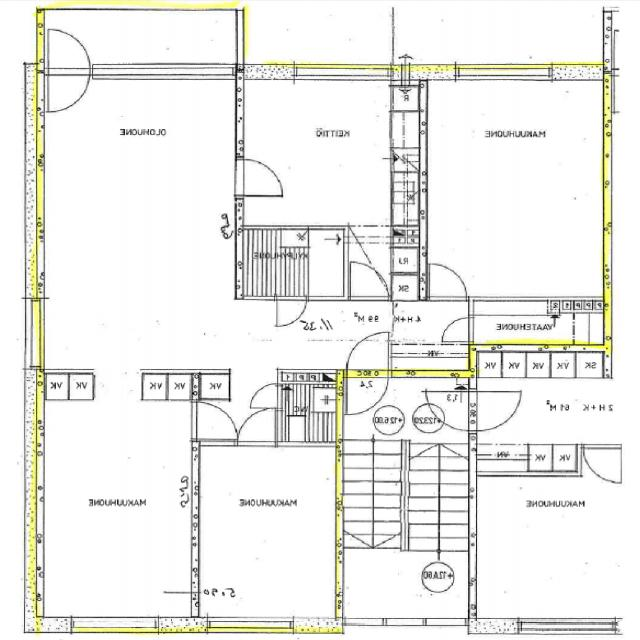door: (49, 64, 91, 119), (49, 26, 91, 80), (347, 331, 389, 377), (347, 370, 389, 415), (192, 402, 238, 439), (237, 160, 283, 195), (351, 260, 390, 300), (238, 407, 276, 447), (430, 262, 467, 301), (277, 297, 307, 327), (444, 317, 474, 341), (252, 384, 282, 408)
